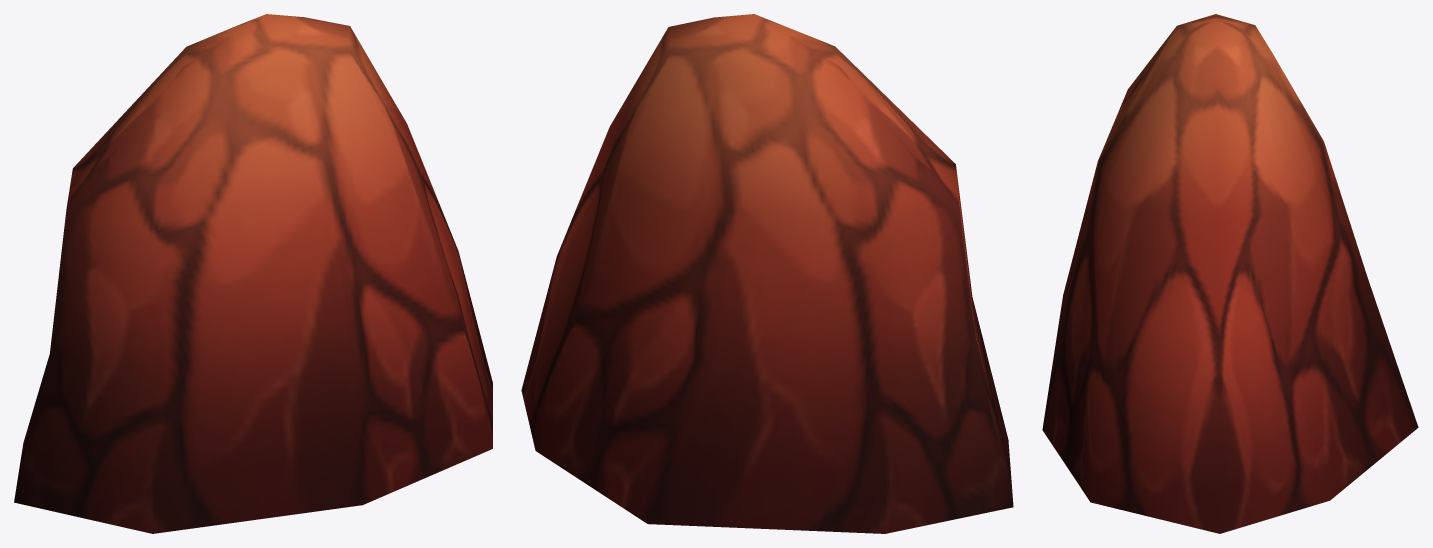
The model's file is Small_Rock_02.FBX.
3 renders of one model, left to right at view 1: azimuth 30°, elevation 25°; view 2: azimuth 150°, elevation 25°; view 3: azimuth 270°, elevation 25°, orthographic. The views are drawn at different scales.
Visible parts, largest first — view 1: Small_Rock_02; view 2: Small_Rock_02; view 3: Small_Rock_02.
Boxes of the visible parts, x1,y1,x2,y2 form: Small_Rock_02: (14, 14, 492, 533); Small_Rock_02: (521, 14, 1013, 533); Small_Rock_02: (1042, 14, 1418, 533).
Bounding box in the file's own units: 37.33 × 31.48 × 26.43.
